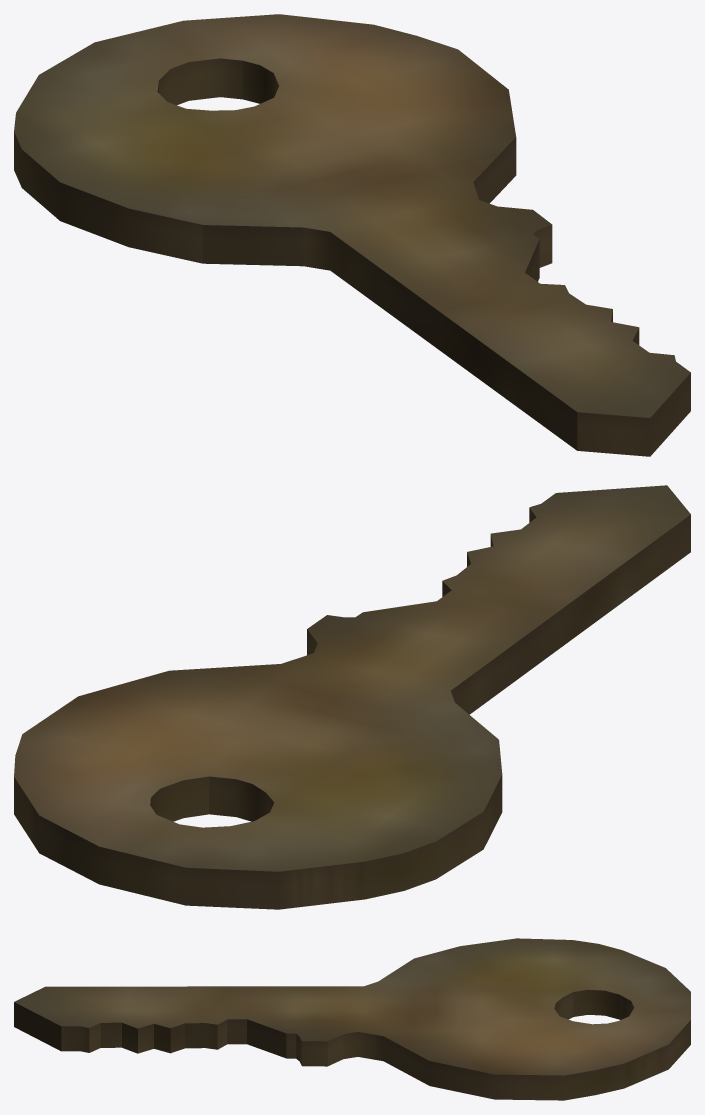
File: key_mp_1.obj
3 renders of one model, top to bottom at view 1: azimuth 30°, elevation 25°; view 2: azimuth 150°, elevation 25°; view 3: azimuth 270°, elevation 25°, orthographic. The views are drawn at different scales.
Parts seen in each view (by area): view 1: key_mp_1; view 2: key_mp_1; view 3: key_mp_1.
Boxes of the visible parts, box(x1,y1,x2,y2) form: key_mp_1: box(14, 14, 690, 456); key_mp_1: box(14, 485, 690, 909); key_mp_1: box(14, 938, 690, 1100).
Bounding box in the file's own units: 0.0352 × 0.00301 × 0.0735.
